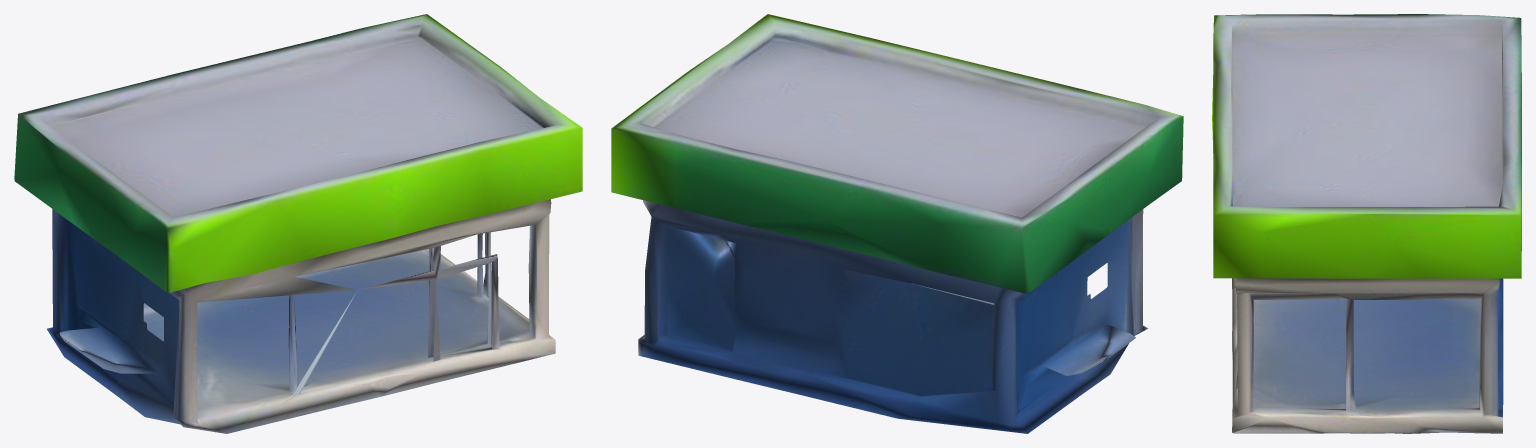
File: mercado.glb
3 views of the same model, side by side, from view 1: azimuth 30°, elevation 25°; view 2: azimuth 150°, elevation 25°; view 3: azimuth 270°, elevation 25° (orthographic).
Parts seen in each view (by area): view 1: tripo_node_b548a1bf-e1eb-488d-97b1-e5fd66a8aee8; view 2: tripo_node_b548a1bf-e1eb-488d-97b1-e5fd66a8aee8; view 3: tripo_node_b548a1bf-e1eb-488d-97b1-e5fd66a8aee8.
Part boxes in pixels (box(x1,y1,x2,y2)): tripo_node_b548a1bf-e1eb-488d-97b1-e5fd66a8aee8: box(14, 14, 582, 433); tripo_node_b548a1bf-e1eb-488d-97b1-e5fd66a8aee8: box(611, 14, 1183, 433); tripo_node_b548a1bf-e1eb-488d-97b1-e5fd66a8aee8: box(1212, 14, 1521, 433).
Bounding box in the file's own units: 1 × 0.5144 × 0.6317.
1 material, 1 textured.
